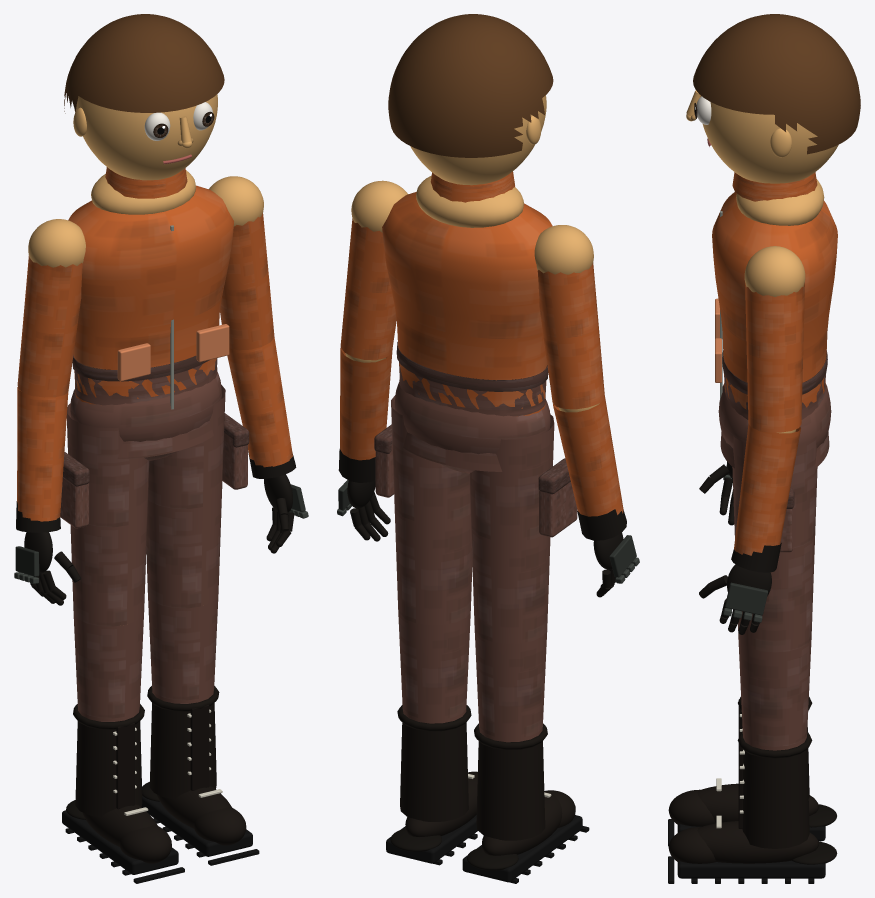
File: 01-pantalon-cargo.glb
3 views of the same model, side by side, from view 1: azimuth 30°, elevation 25°; view 2: azimuth 150°, elevation 25°; view 3: azimuth 270°, elevation 25° (orthographic). The views are drawn at different scales.
Bounding box in the file's own units: 0.6344 × 1.77 × 0.3715.
Materials: 25 (4 with a texture image).
